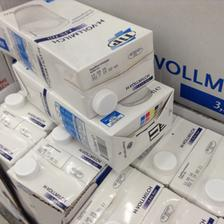Milch: (0, 0, 160, 114)
